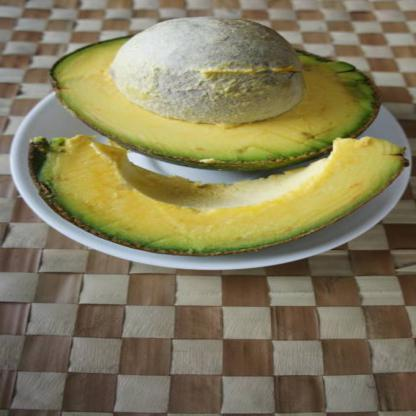Cantaloupe: (112, 18, 304, 122)
